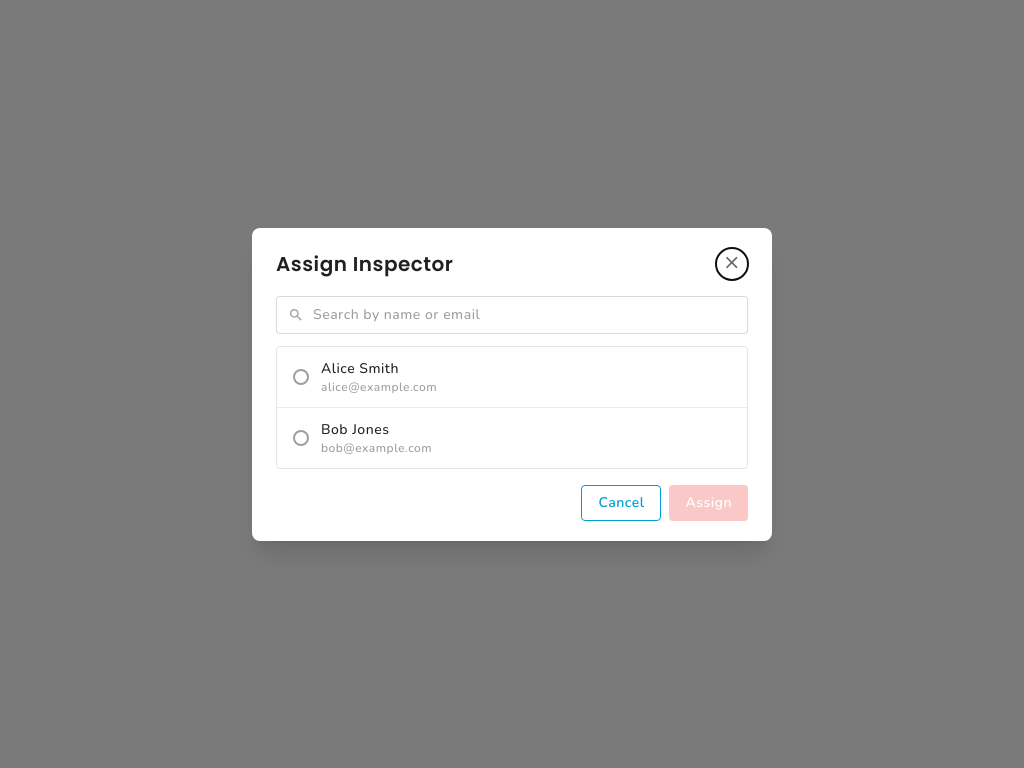
Test: AssignInspectorModal › enables Assign button after selecting an inspector
Expected: the text "Alice Smith" is shown, left=321, top=358, right=399, bottom=378
Click the button with test id "inspector-row-insp-1" at (360, 368), box left=277, top=346, right=747, bottom=408
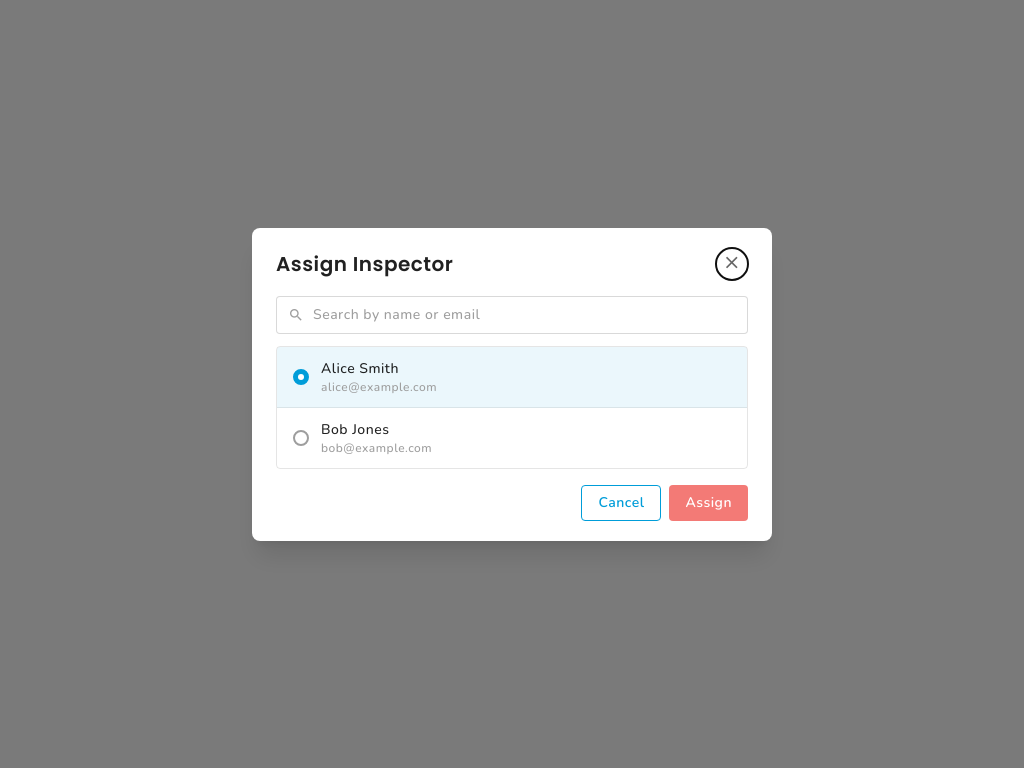
Expected: the button with test id "assign-confirm-button" is enabled, left=670, top=484, right=748, bottom=520
